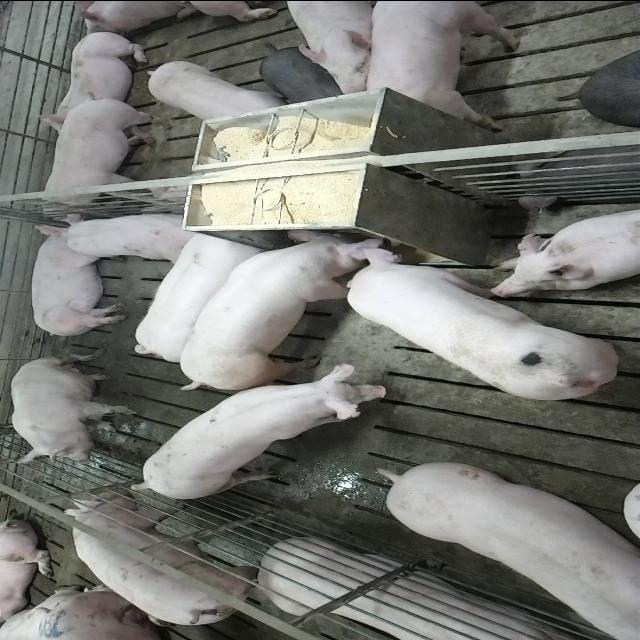Feeding: (340, 240, 622, 402), (176, 222, 396, 388)
Lateral_lying: (28, 222, 128, 338)
Sitting: (8, 354, 138, 462)
Standing: (379, 464, 640, 640), (132, 366, 394, 504), (61, 498, 268, 630), (367, 2, 521, 130), (128, 228, 264, 362), (28, 94, 172, 217), (142, 57, 285, 123), (282, 0, 373, 95), (256, 44, 342, 104)
Sternal_lying: (260, 539, 604, 640), (489, 204, 640, 294), (34, 29, 154, 124), (48, 208, 200, 260)
